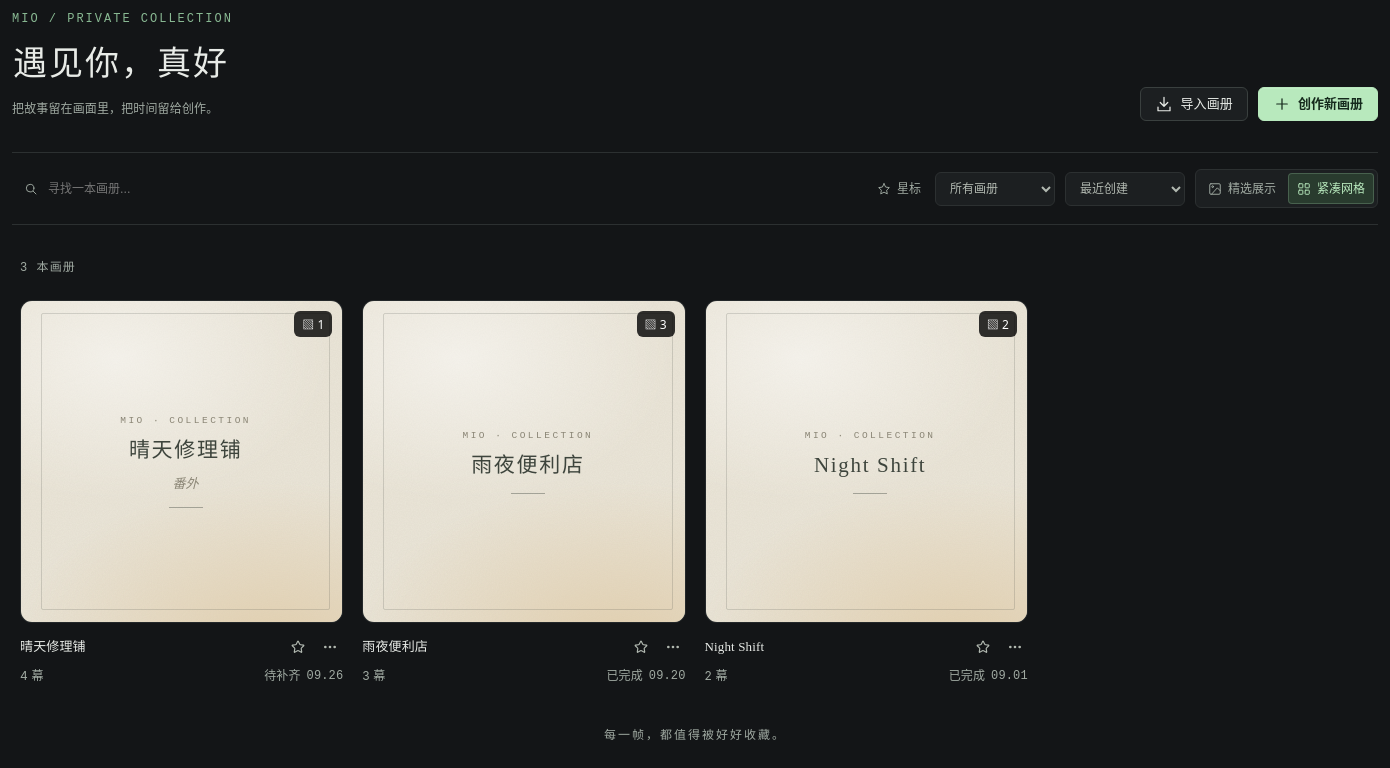
Test: WorksPage › opens the album menu from ⋯ and moves an album in the manual order
The image size is (1390, 768).
Step 1. Click the button named "画册操作" in the row of "Night Shift" → (1015, 647), box [1002,634,1028,660]
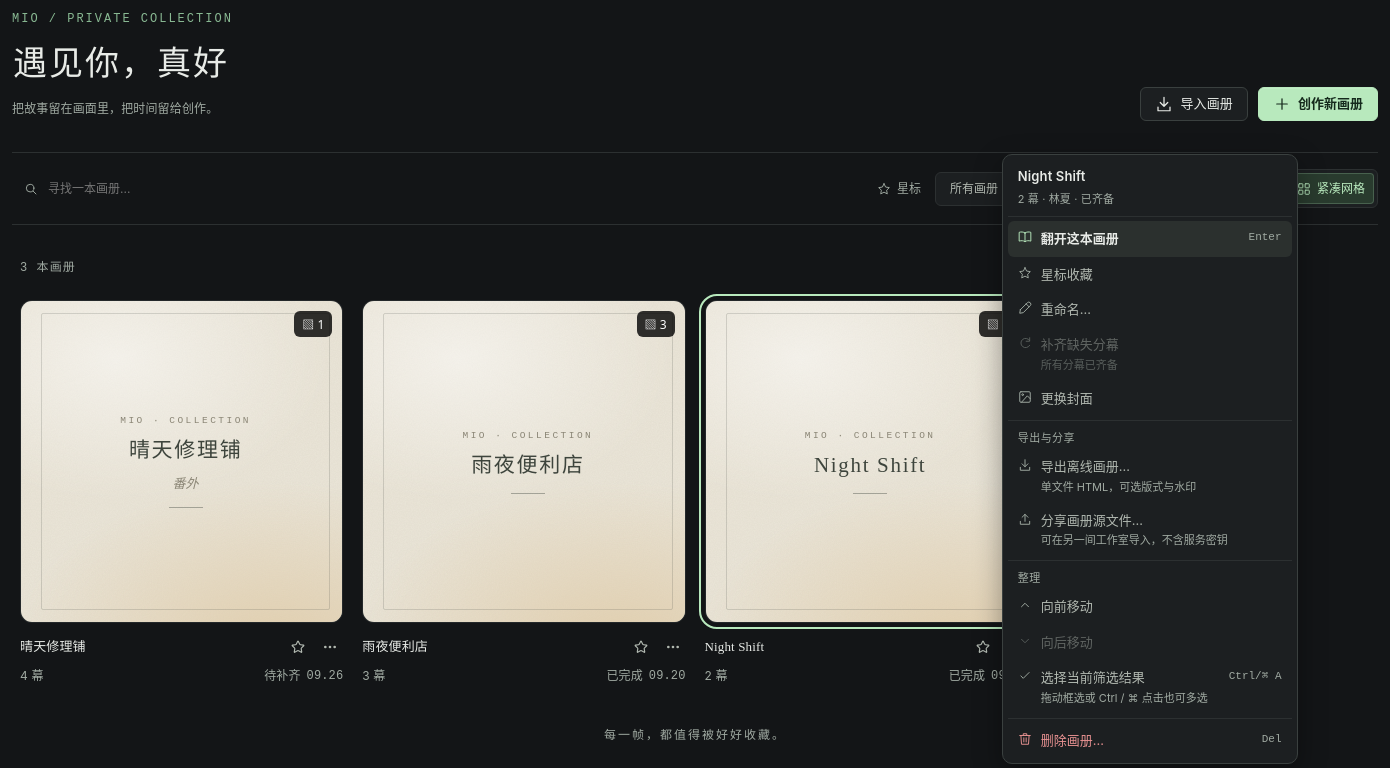
Expected: the text "2 幕 · 林夏 · 已齐备" is shown, [1018,192,1114,206]
Expected: the menu item "翻开这本画册 Enter" is shown, [1008,221,1292,257]
Expected: the menu item "重命名…" is shown, [1008,292,1292,327]
Step 2. Click the menu item "向前移动" → (1067, 606), box [1008,589,1292,625]
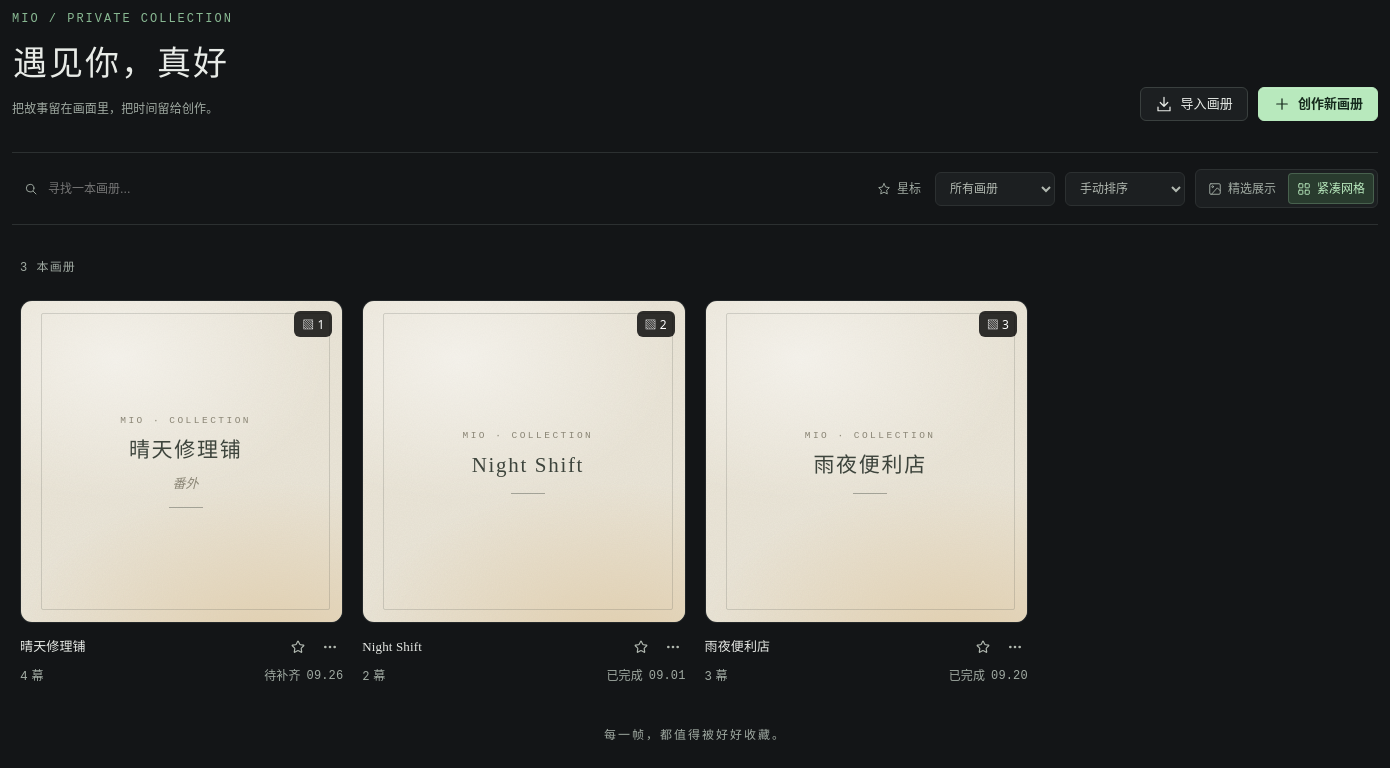
Expected: the headings read "晴天修理铺", "Night Shift", "雨夜便利店", in this order, [20,639,86,654]; [362,639,422,654]; [704,639,770,654]
